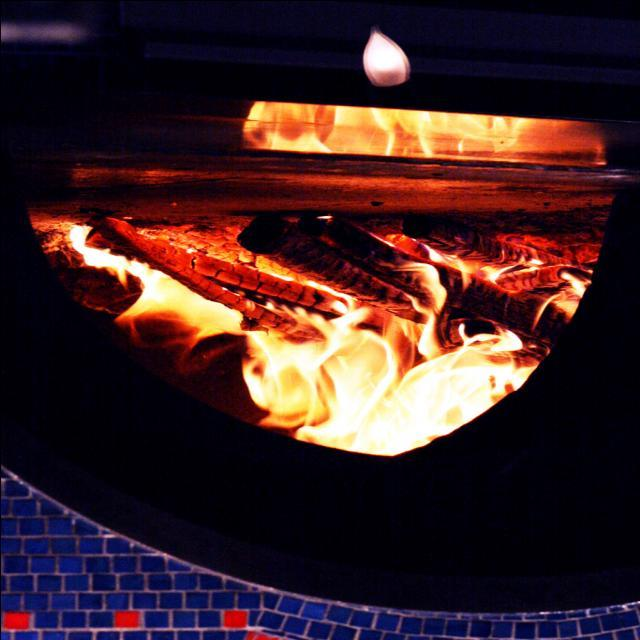Fire: (33, 227, 614, 460), (238, 101, 604, 169)
